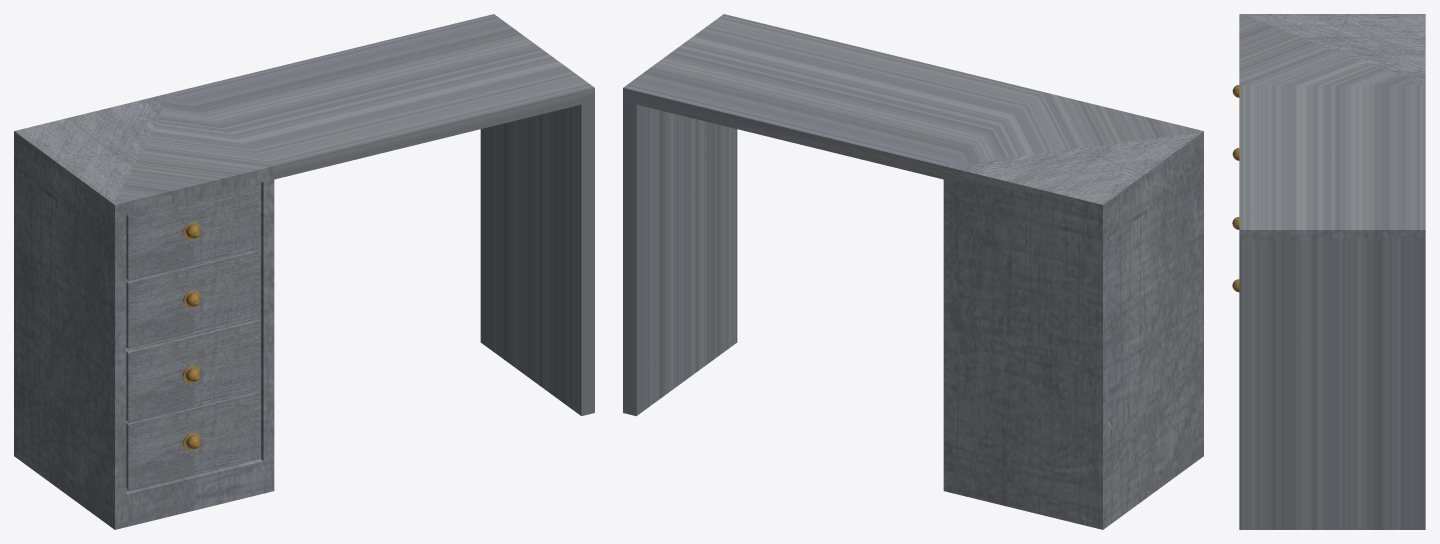
The model's file is Escrivaninha2RE1.fbx.
3 renders of one model, left to right at view 1: azimuth 30°, elevation 25°; view 2: azimuth 150°, elevation 25°; view 3: azimuth 270°, elevation 25°, orthographic. The views are drawn at different scales.
Visible parts, largest first — view 1: pCube1, pCube5, pCube3, pCube6, pCube4; view 2: pCube1; view 3: pCube1.
Part boxes in pixels (x1,y1,x2,y2): pCube1: (14, 14, 594, 529); pCube5: (126, 320, 259, 421); pCube3: (126, 250, 259, 348); pCube6: (126, 392, 259, 490); pCube4: (126, 183, 259, 280); pCube1: (623, 14, 1203, 529); pCube1: (1239, 14, 1425, 529).
Bounding box in the file's own units: 1.22 × 0.7896 × 0.4608.
Materials: 2 (2 with a texture image).
